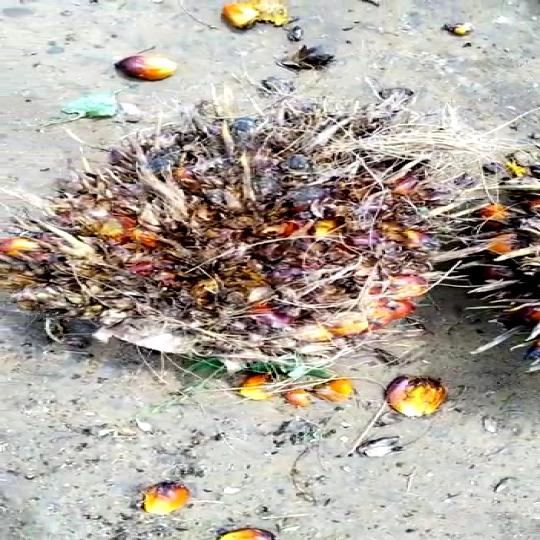terlalu masak: (2, 101, 483, 379)
